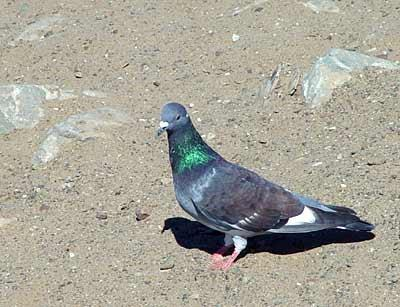Flying Rat: (151, 100, 375, 269)
